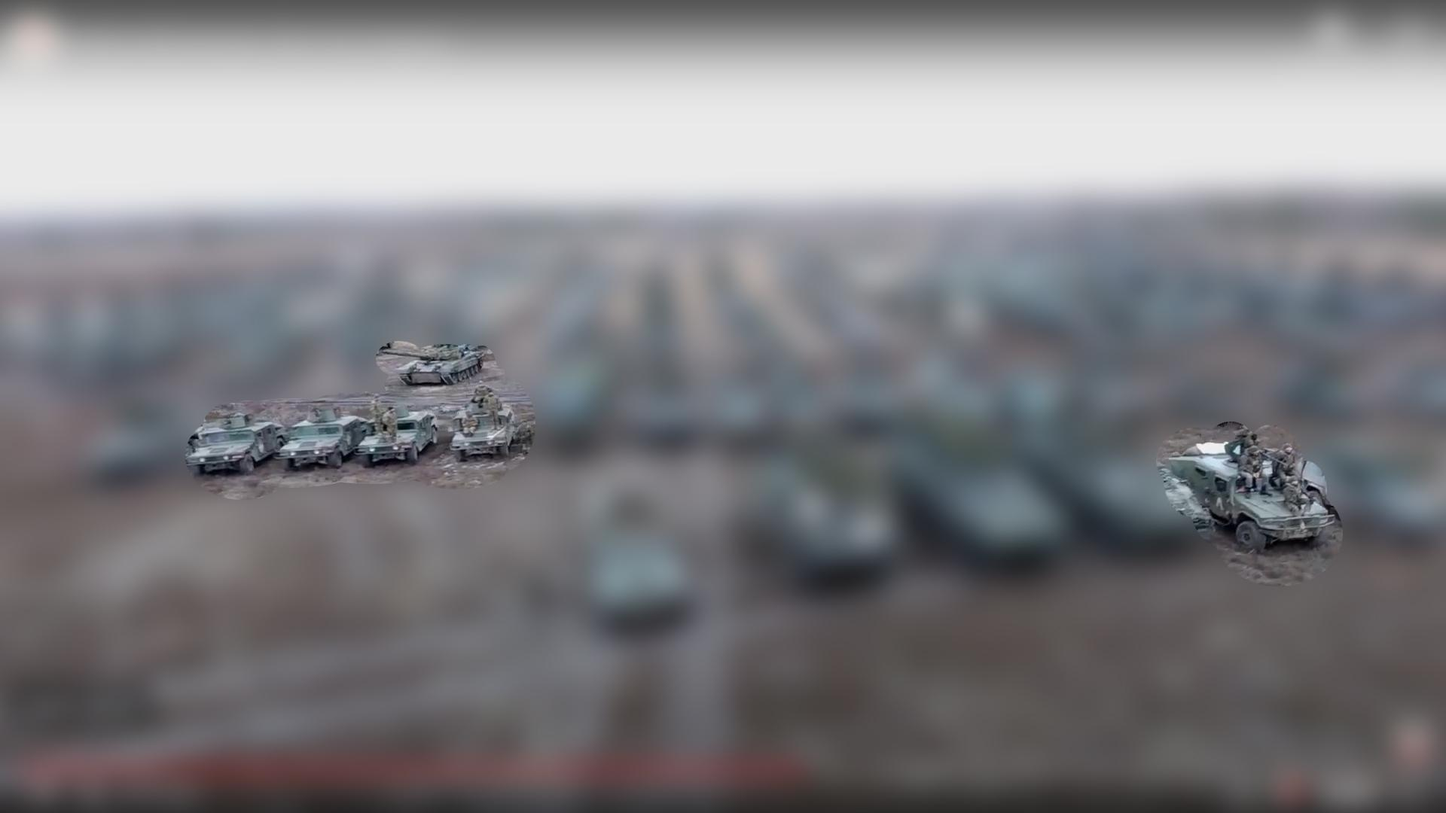armored_car: (1166, 439, 1339, 558), (445, 389, 535, 461), (273, 407, 375, 470), (184, 420, 278, 477), (356, 403, 437, 468)
tank: (380, 343, 484, 386)
